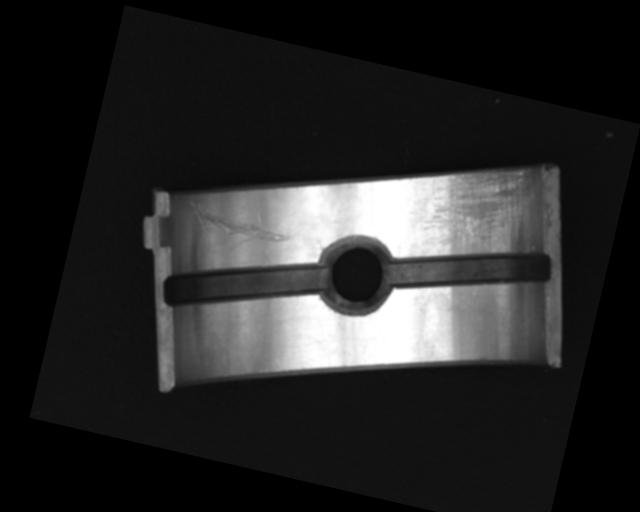gap: (159, 229, 331, 339), (382, 219, 556, 318)
hole: (312, 230, 399, 320)
nick: (178, 196, 296, 264)
scratch: (420, 145, 542, 267)
